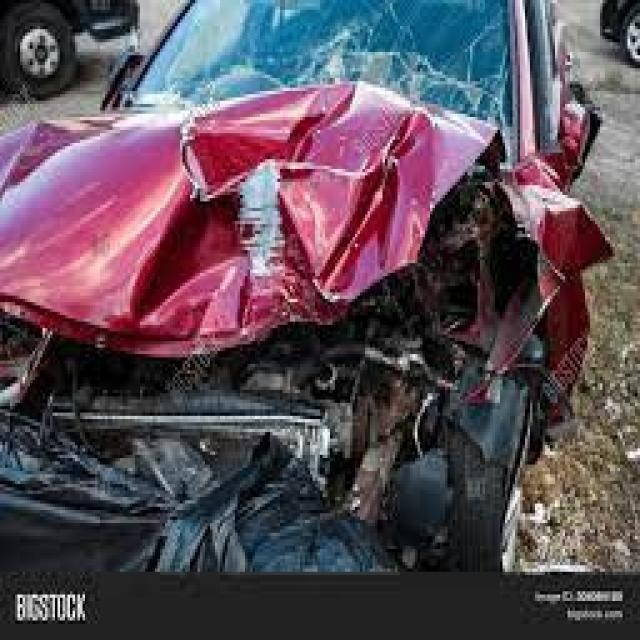damaged-hood: (1, 82, 516, 362)
